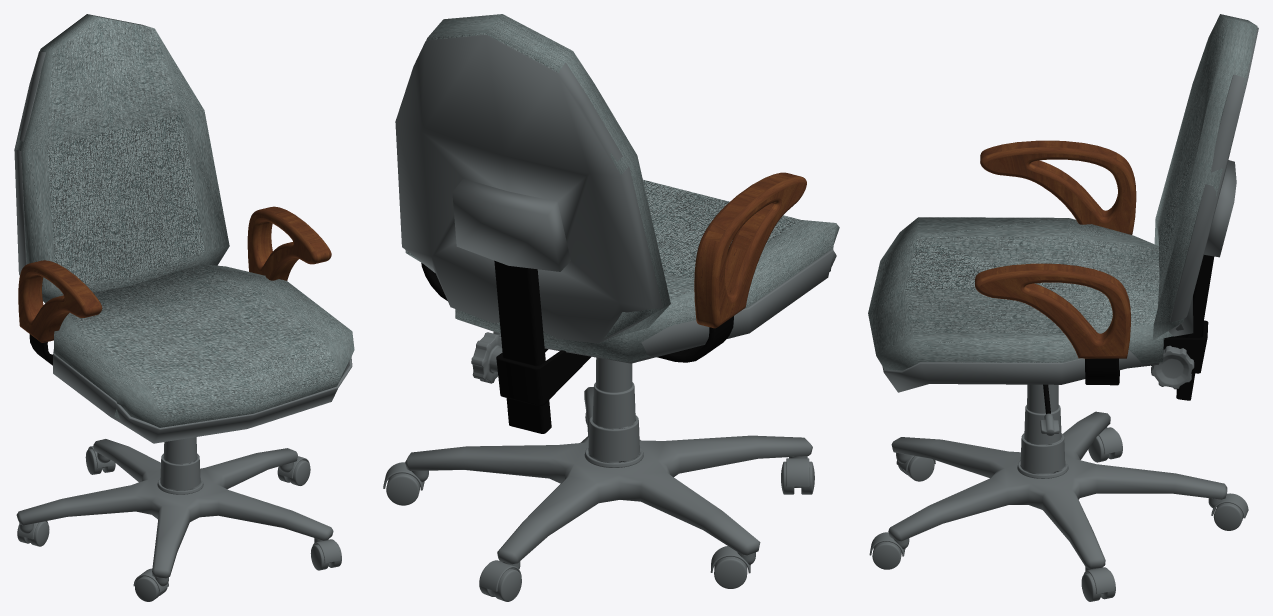
File: chair.gltf
3 renders of one model, left to right at view 1: azimuth 30°, elevation 25°; view 2: azimuth 150°, elevation 25°; view 3: azimuth 270°, elevation 25°, orthographic. The views are drawn at different scales.
Parts seen in each view (by area): view 1: Cube, Cube_2, Cylinder, Низ_сидения_3, Выдавливание, Cone, Закругление_1, Низ_сидения, Закругление_2, Шапка_1, Шапка_2, Oil_Tank (+1 smaller); view 2: Низ_сидения, Cylinder, Cube_2, Cube, Стойка_спинки, Cone, Низ_сидения_3, Выдавливание, Extrude_NURBS_2, Закругление_1, Шапка_1, Симметрия_1 (+7 smaller); view 3: Cube_2, Cylinder, Cube, Низ_сидения, Низ_сидения_3, Закругление_1, Выдавливание, Закругление_2, Cone, Шапка_1, Шапка_2, Стойка_спинки (+7 smaller).
Boxes of the visible parts, x1,y1,x2,y2 form: Cube: [15, 14, 229, 303]; Cube_2: [54, 264, 354, 427]; Cylinder: [16, 439, 333, 578]; Низ_сидения_3: [53, 349, 352, 443]; Выдавливание: [28, 206, 329, 342]; Cone: [157, 437, 203, 494]; Закругление_1: [18, 206, 331, 342]; Низ_сидения: [14, 51, 45, 275]; Закругление_2: [40, 209, 317, 330]; Шапка_1: [18, 268, 82, 338]; Шапка_2: [248, 214, 311, 279]; Oil_Tank: [135, 576, 167, 601]; Низ_сидения: [395, 34, 662, 343]; Cylinder: [405, 387, 812, 564]; Cube_2: [455, 179, 839, 362]; Cube: [405, 14, 670, 339]; Стойка_спинки: [494, 260, 551, 433]; Cone: [584, 357, 643, 467]; Низ_сидения_3: [457, 249, 836, 363]; Выдавливание: [697, 172, 799, 328]; Extrude_NURBS_2: [496, 348, 591, 405]; Закругление_1: [711, 176, 806, 328]; Шапка_1: [719, 183, 806, 322]; Симметрия_1: [421, 263, 733, 362]; Cube_2: [868, 217, 1164, 370]; Cylinder: [888, 411, 1227, 569]; Cube: [1153, 14, 1257, 340]; Низ_сидения: [1168, 27, 1258, 336]; Низ_сидения_3: [882, 350, 1159, 392]; Закругление_1: [975, 140, 1130, 358]; Выдавливание: [975, 141, 1136, 340]; Закругление_2: [976, 147, 1135, 333]; Cone: [1017, 384, 1068, 478]; Шапка_1: [979, 276, 1125, 355]; Шапка_2: [984, 153, 1131, 232]; Стойка_спинки: [1176, 255, 1214, 400].
Bounding box in the file's own units: 6.52 × 9.72 × 6.81.
